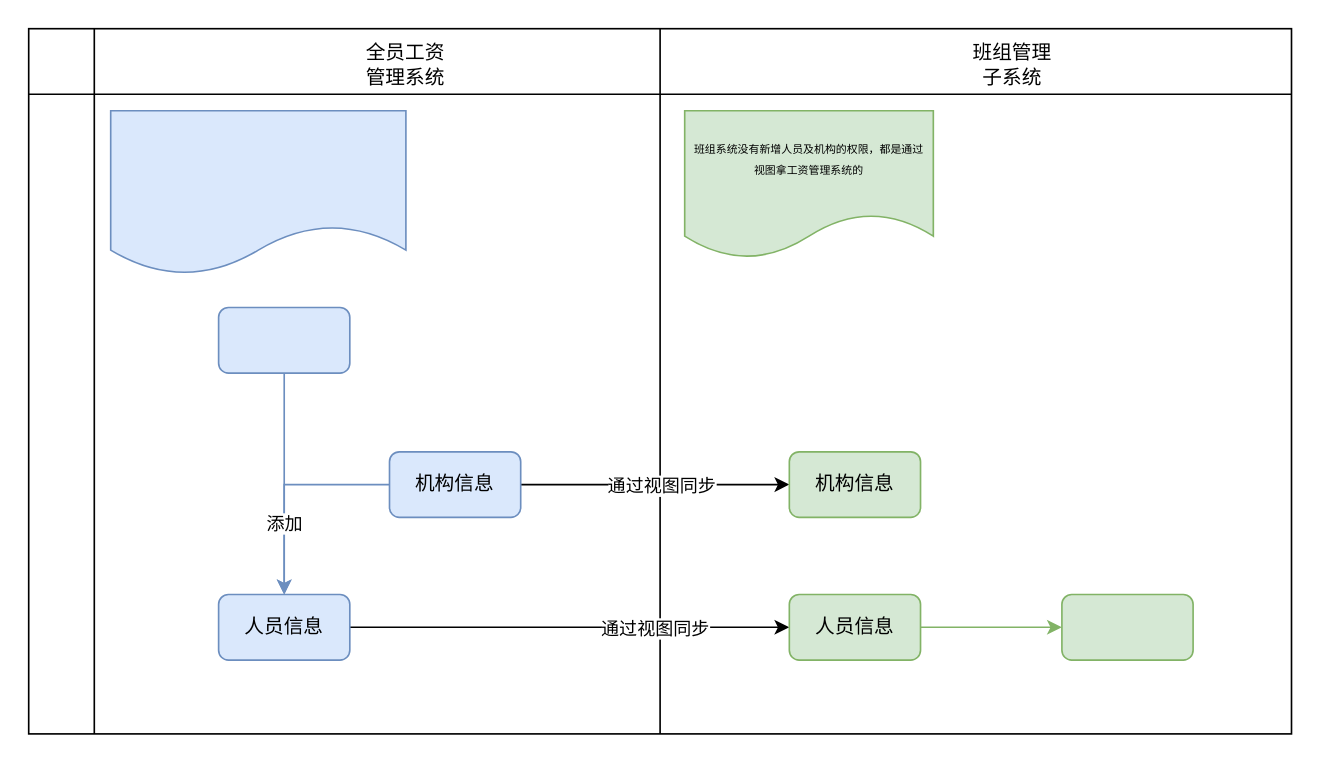
The diagram is 1320 pixels wide and 764 high, and some of its shapes have lost their labels. Each missing label, with the centre of its shape:
"人员分配" belongs at point 1126,626.
"人员编码规则： 纯月薪、混合月薪从600001开始 车间计件人员从620001开始" belongs at point 257,192.
"人员起薪" belongs at point 283,339.
